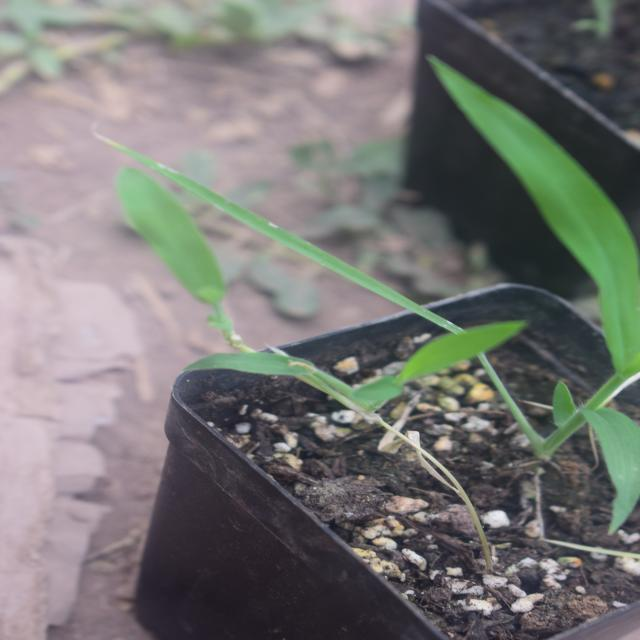crabgrass: (44, 0, 499, 166)
